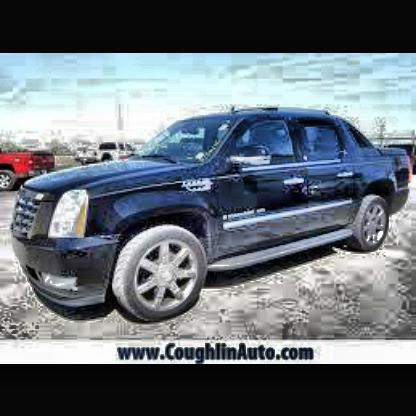Cadillac Escalade EXT Crew Cab 2007: (8, 105, 416, 328)
